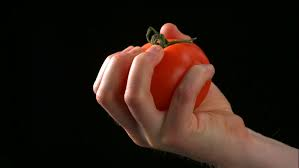tomato: (140, 42, 211, 113)
